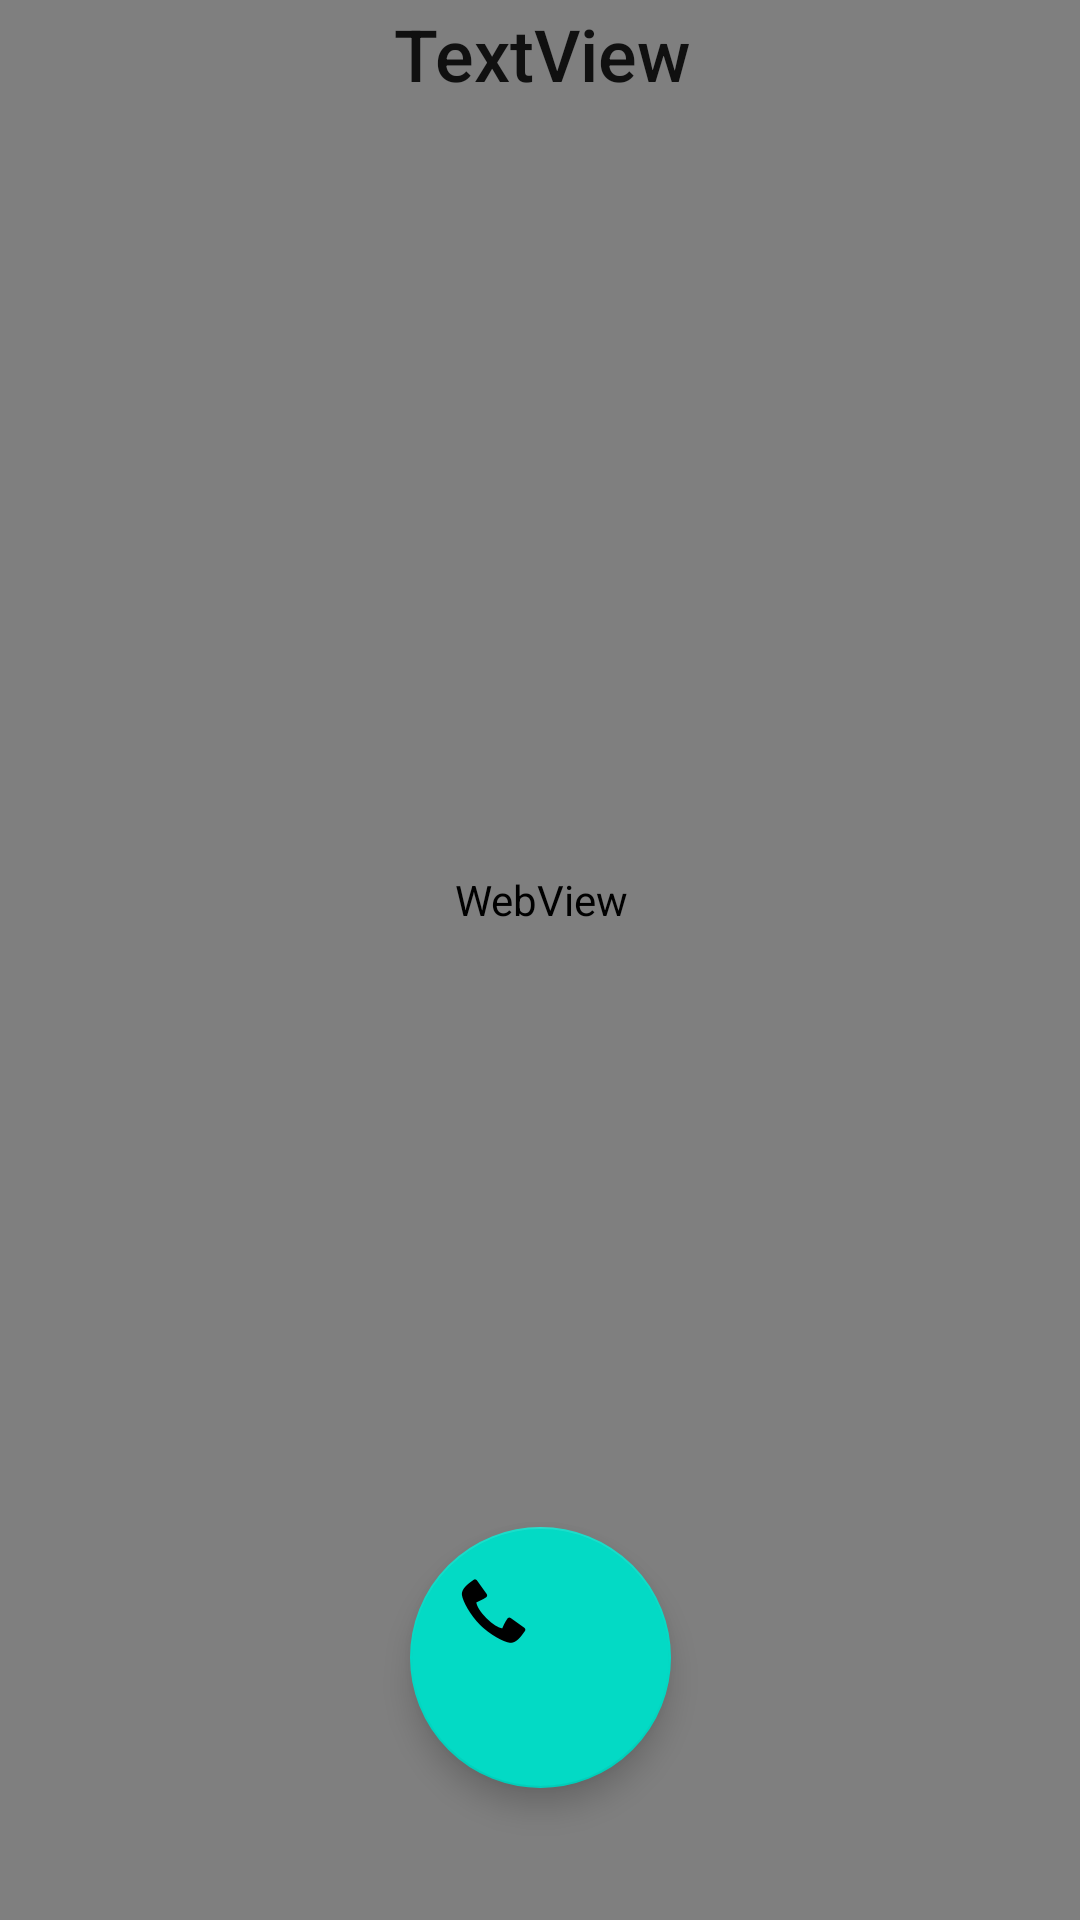

Icons on this 1080px×1920px Android screen, each with its box as [x1=x1, y1=y1, x2=x2, y2=y2]:
phone call: [x1=410, y1=1527, x2=671, y2=1788]
